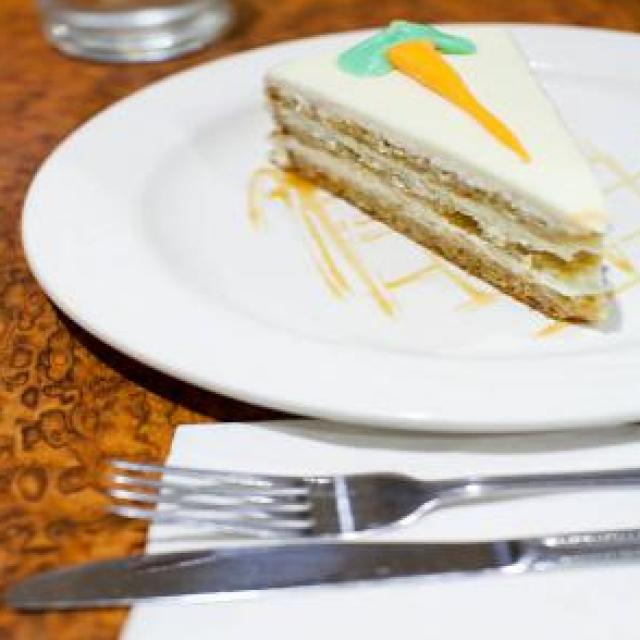knife: (0, 525, 640, 616)
